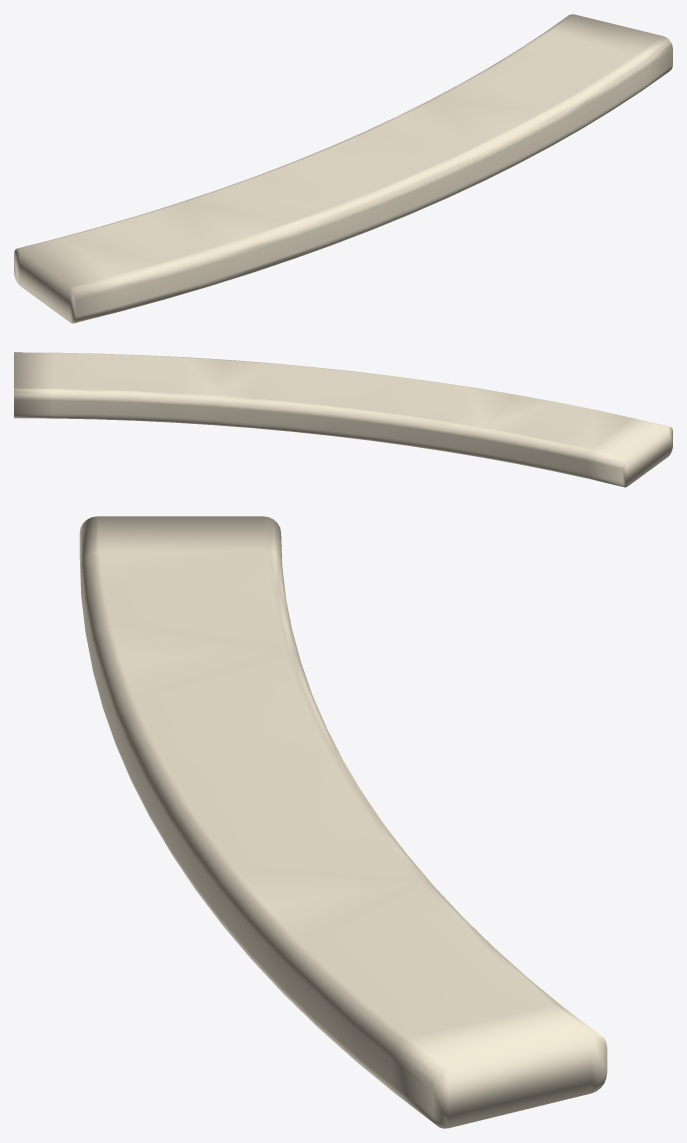
Rendered from ArcCoping_R4_A30.glb.
The picture shows the model from 3 angles, top to bottom: view 1: azimuth 30°, elevation 25°; view 2: azimuth 150°, elevation 25°; view 3: azimuth 270°, elevation 25°; orthographic projection. The views are drawn at different scales.
Visible parts, largest first — view 1: PBK_Coping.012; view 2: PBK_Coping.012; view 3: PBK_Coping.012.
Boxes of the visible parts, box(x1,y1,x2,y2) form: PBK_Coping.012: box(14, 14, 672, 323); PBK_Coping.012: box(14, 352, 672, 487); PBK_Coping.012: box(79, 516, 607, 1128).
Size of the model in its own units: 2.03 by 0.1 by 0.8124.
